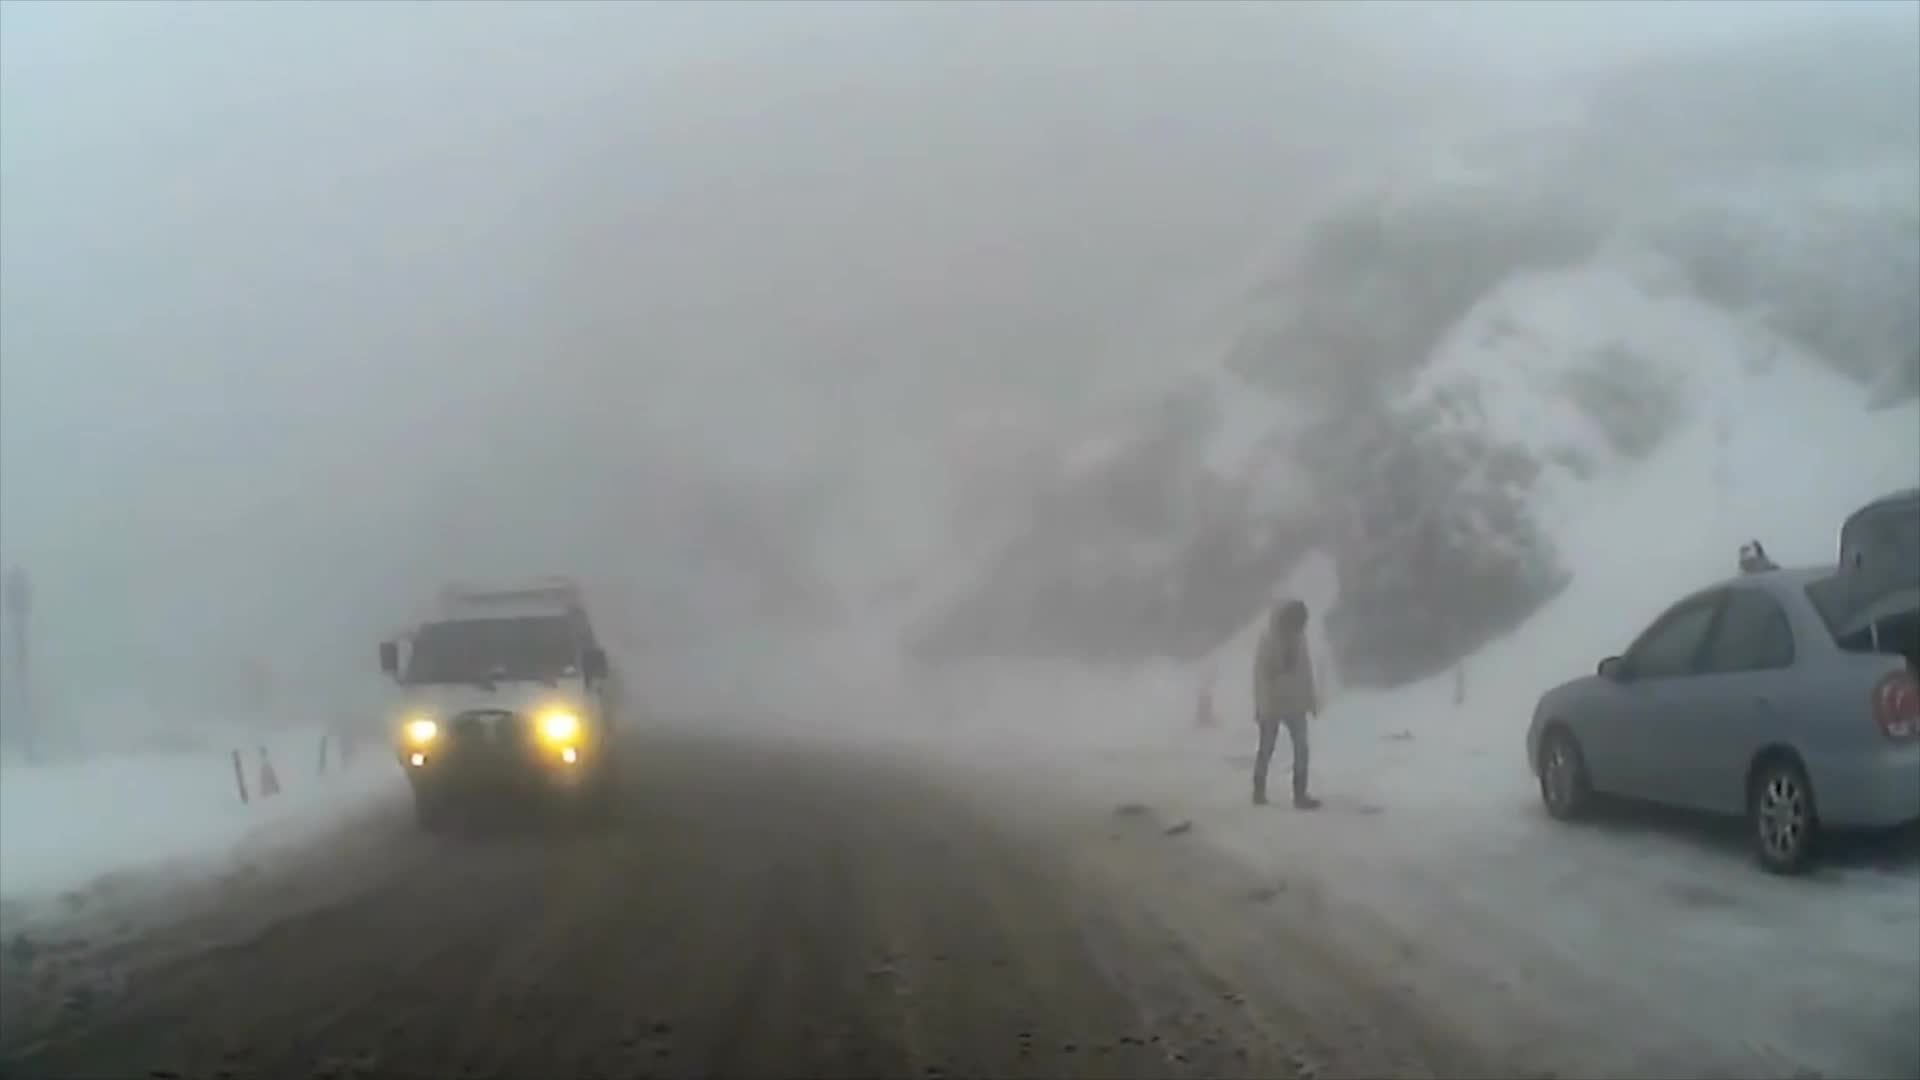pedestrian: (1247, 587, 1321, 807)
vehicle: (1523, 481, 1920, 879), (373, 579, 614, 839)
